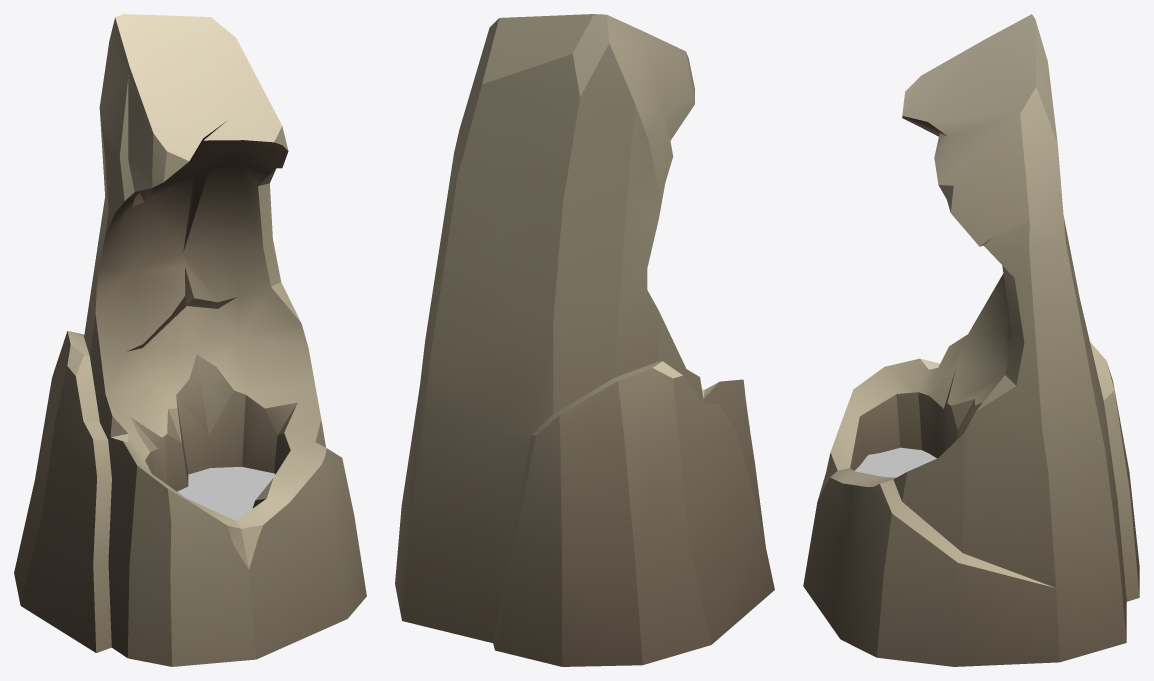
The model's file is Rock_Shrine_2A.fbx.
The picture shows the model from 3 angles, left to right: view 1: azimuth 30°, elevation 25°; view 2: azimuth 150°, elevation 25°; view 3: azimuth 270°, elevation 25°; orthographic projection. The views are drawn at different scales.
Visible parts, largest first — view 1: Rock_Shrine_2A; view 2: Rock_Shrine_2A; view 3: Rock_Shrine_2A.
Part boxes in pixels (<box>): Rock_Shrine_2A: <box>14,14,366,666</box>; Rock_Shrine_2A: <box>395,14,774,666</box>; Rock_Shrine_2A: <box>803,14,1139,666</box>.
Size of the model in its own units: 1.64 by 3.06 by 1.67.
